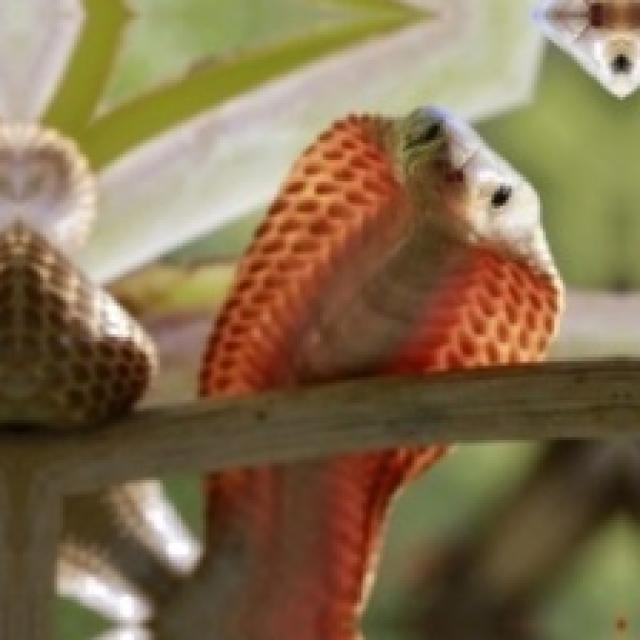philippine cobra: (200, 106, 560, 394), (157, 446, 440, 637), (0, 225, 156, 427)
